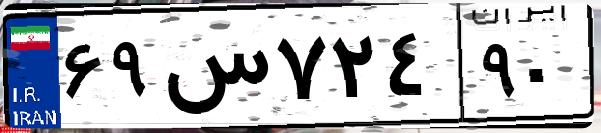0: (525, 38, 570, 115)
2: (330, 28, 385, 110)
4: (385, 28, 445, 110)
6: (57, 26, 110, 100)
7: (270, 28, 330, 110)
9: (475, 38, 525, 113), (110, 28, 158, 98)
س: (158, 20, 270, 120)
